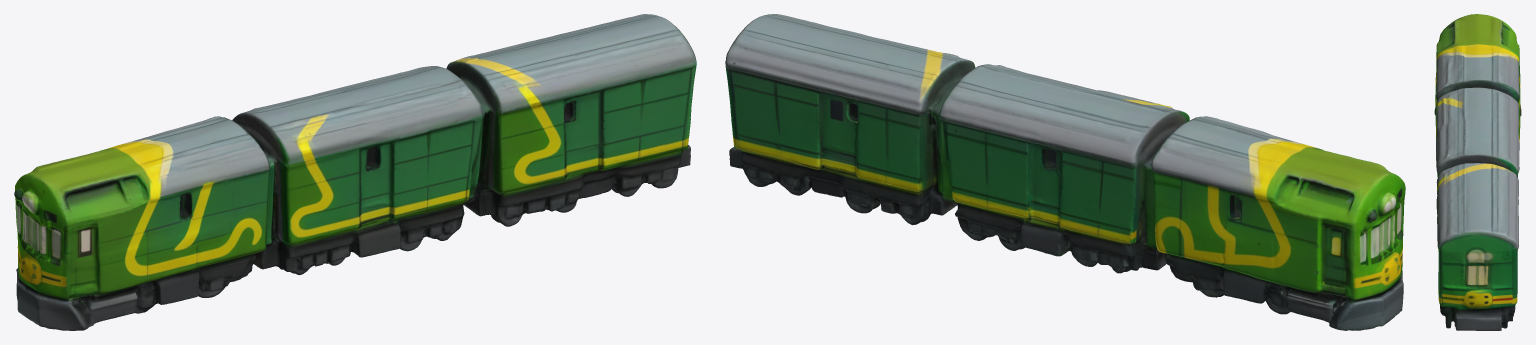
Rendered from Green Express Train.glb.
3 views of the same model, side by side, from view 1: azimuth 30°, elevation 25°; view 2: azimuth 150°, elevation 25°; view 3: azimuth 270°, elevation 25° (orthographic). The views are drawn at different scales.
Bounding box in the file's own units: 2 × 0.4353 × 0.3228.
1 material, 1 textured.
